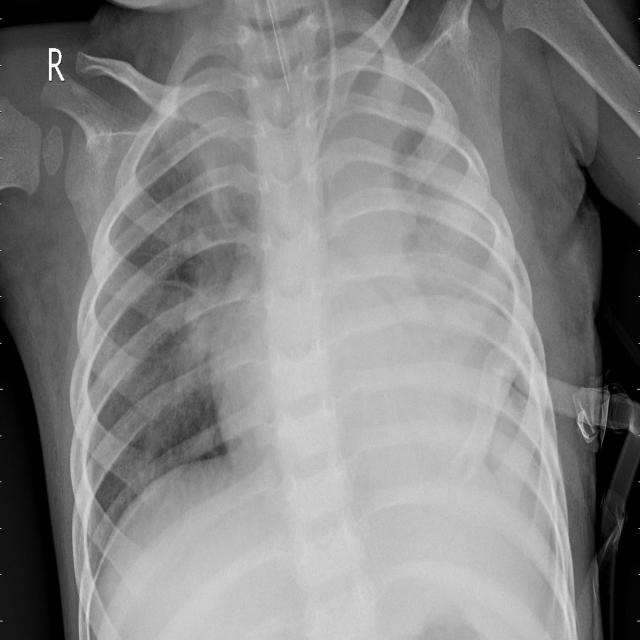high-pneumonia: (403, 105, 562, 491)
low-pneumonia: (168, 50, 251, 282), (116, 290, 221, 450)
